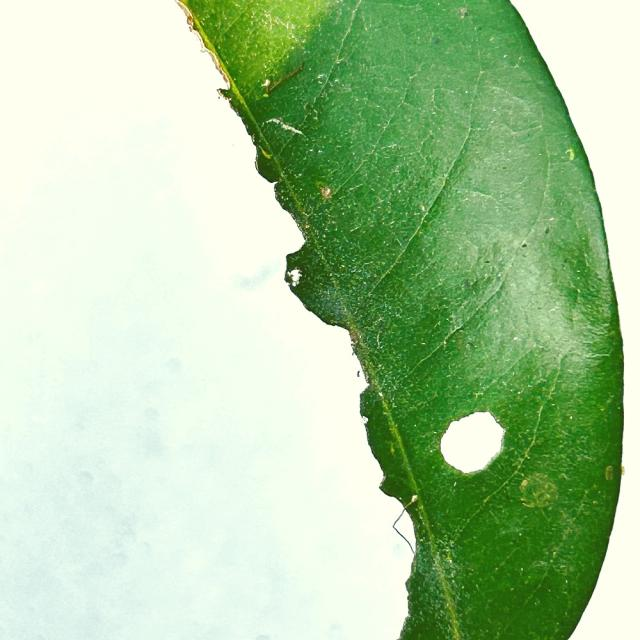Deficiency Leaf: (74, 0, 414, 617)
Lychee: (175, 0, 626, 639)
